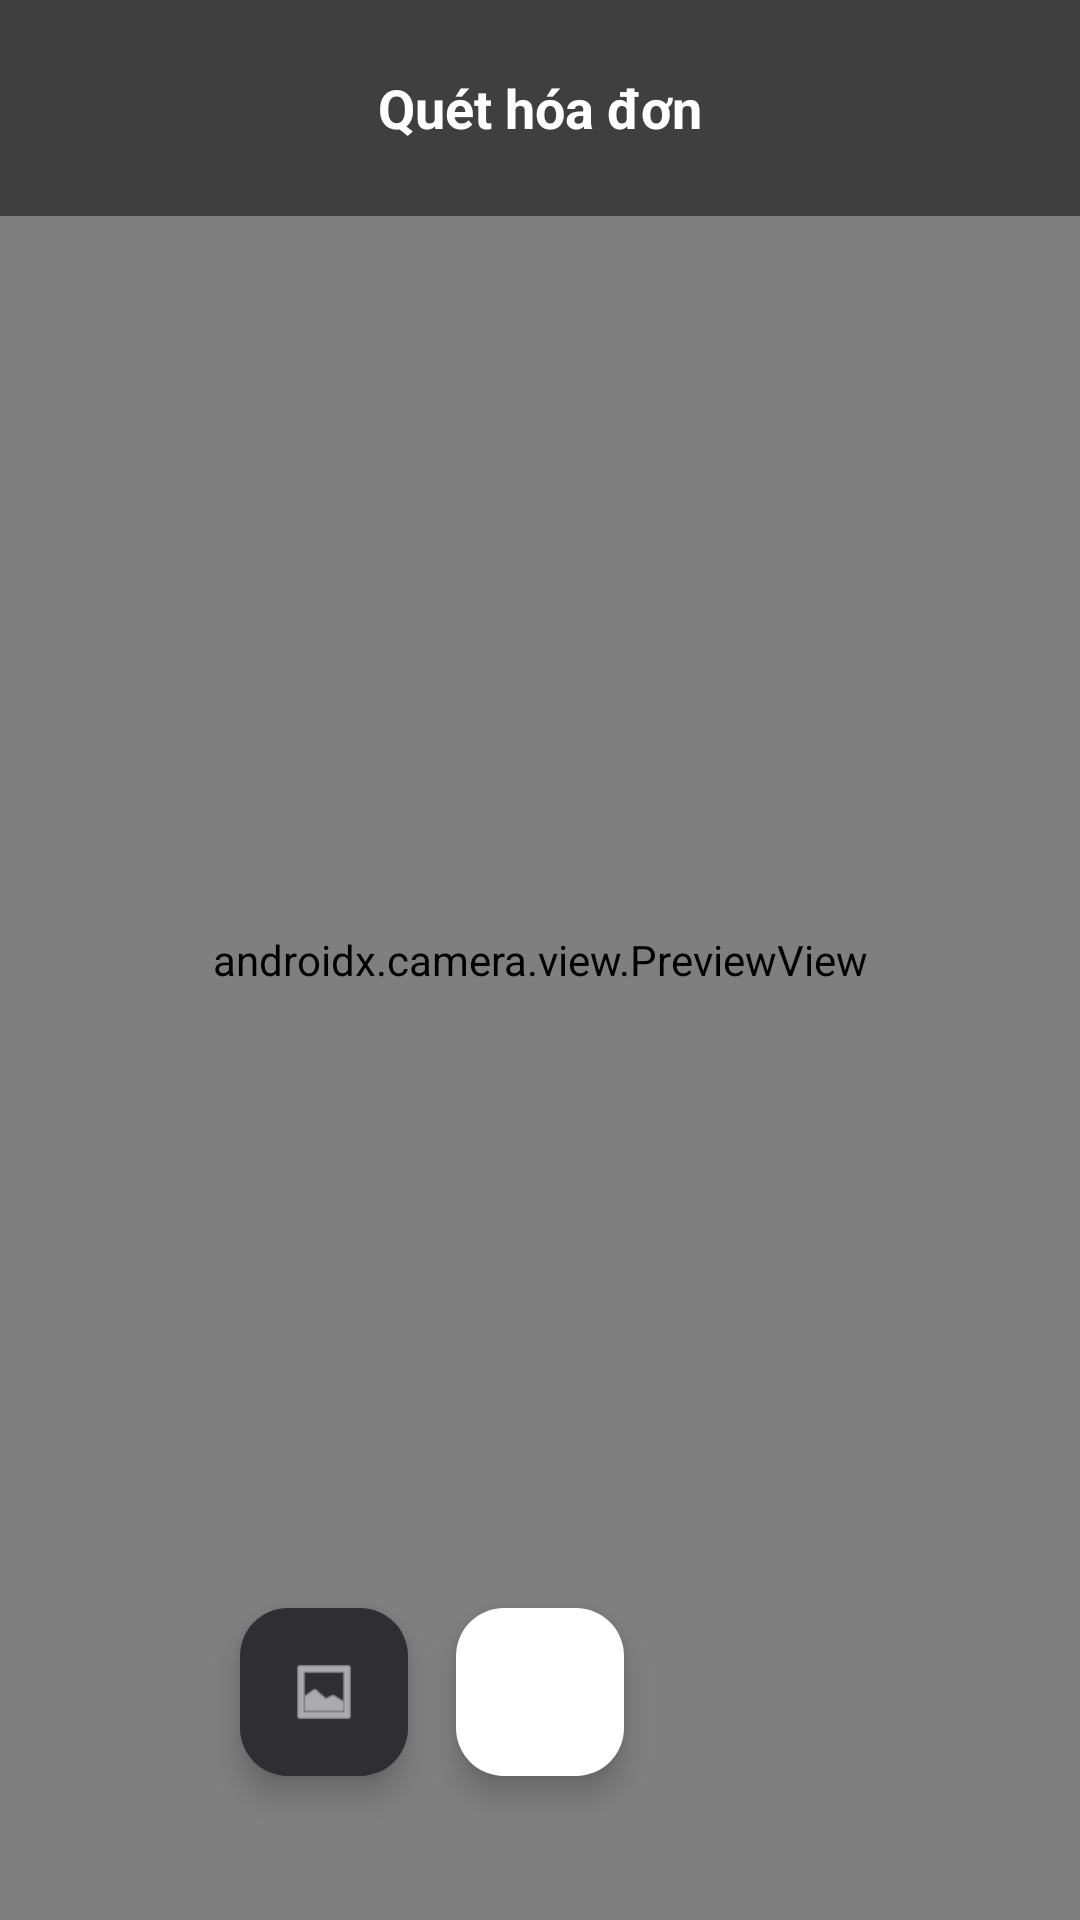

Icon bounding boxes for this 1080w x 1920h phone screenshot, format (x1, y1, x2, y2):
Chọn từ thư viện: (240, 1608, 408, 1776)
